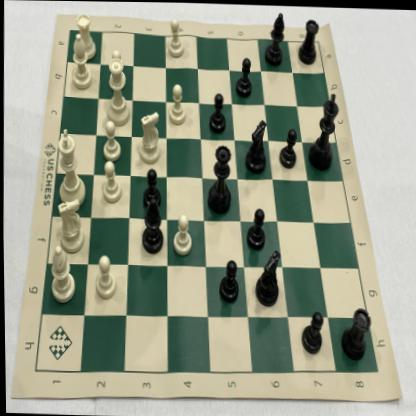black-bishop: (139, 197, 164, 256), (262, 9, 287, 67)
black-king: (306, 91, 341, 172)
black-knight: (252, 244, 283, 308), (241, 116, 267, 174)
black-pawn: (297, 307, 324, 355), (216, 257, 240, 304), (244, 206, 266, 252), (276, 127, 298, 169), (234, 55, 255, 98), (140, 167, 162, 208), (207, 90, 227, 133)
black-queen: (205, 143, 233, 216)
black-rook: (337, 304, 372, 361), (297, 16, 320, 64)
white-bishop: (65, 34, 95, 90), (47, 245, 76, 302)
white-king: (54, 126, 86, 206)
white-knight: (54, 196, 85, 253), (137, 109, 163, 164)
white-pawn: (91, 253, 117, 300), (98, 160, 122, 204), (166, 82, 187, 128), (170, 211, 191, 257), (165, 14, 185, 60), (100, 119, 121, 162), (107, 48, 127, 92)
white-queen: (105, 57, 132, 127)
white-rook: (71, 8, 99, 62)
